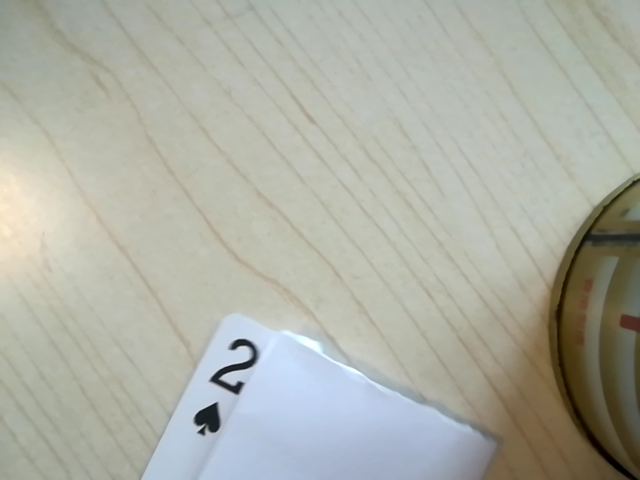ht 2: (180, 334, 265, 455)
